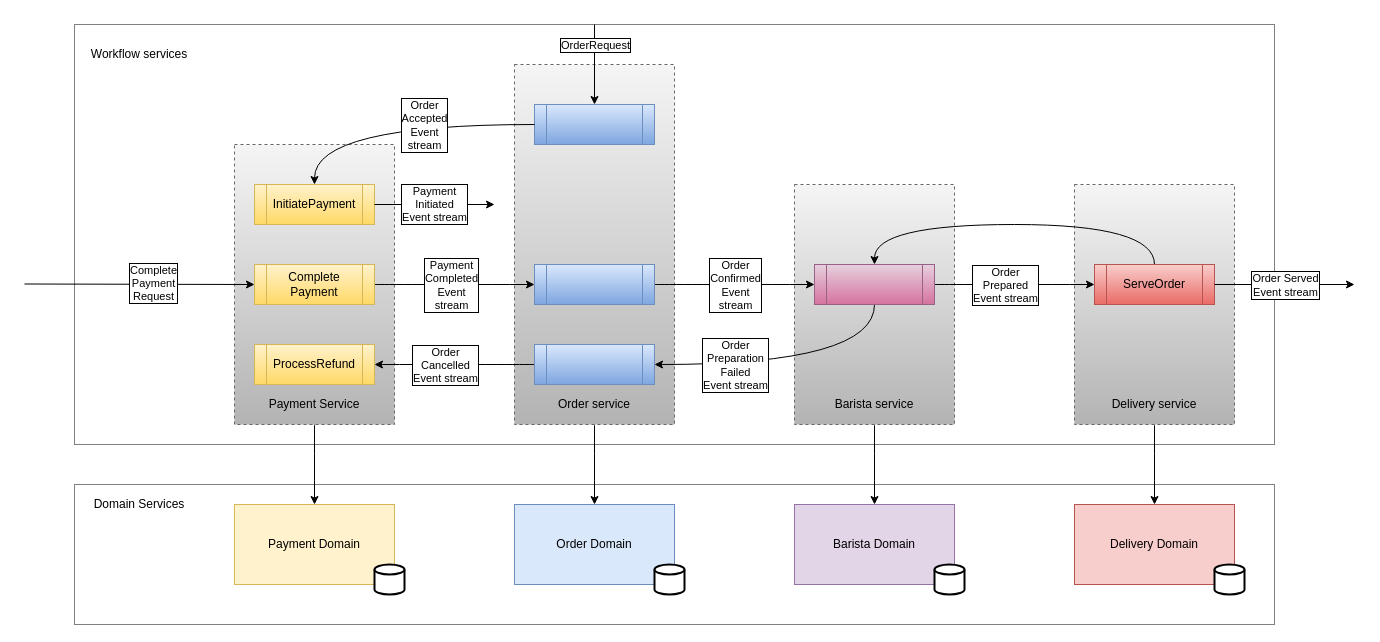
This 1380x642 diagram has some shape labels left out. The centre of each missing label's shape, as x and y in pixels:
"CancelOrder" goes at [594,364].
"ConfirmOrder" goes at [594,284].
"PrepareOrder" goes at [874,284].
"TakeOrder" goes at [594,124].
